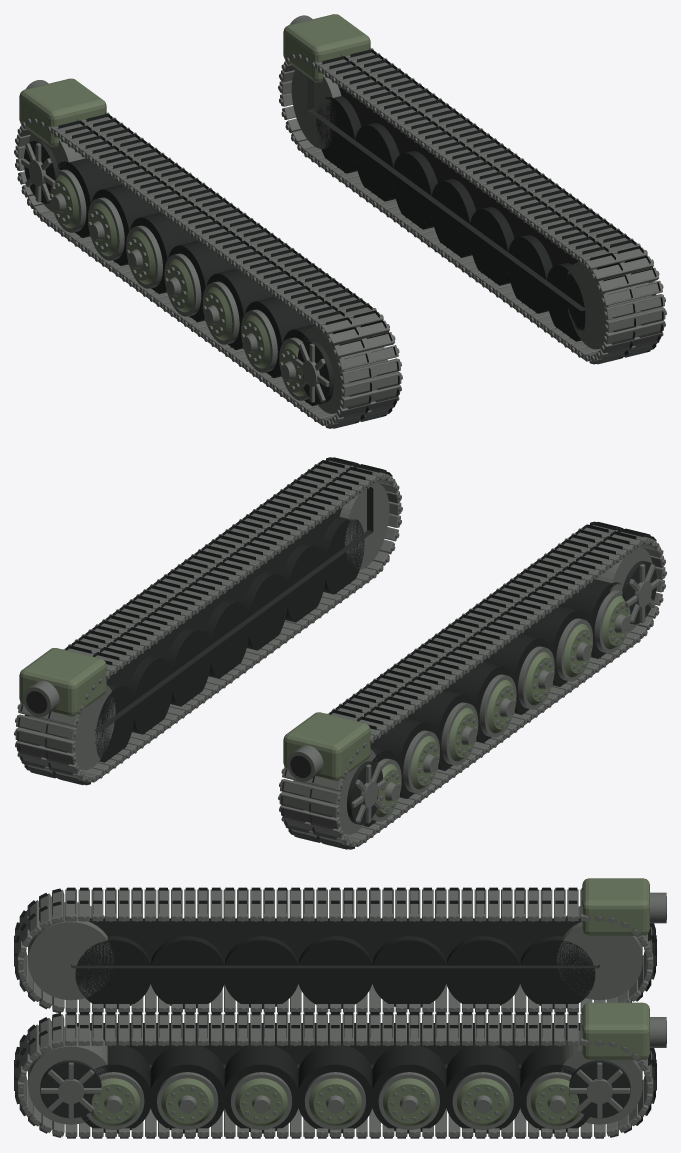
File: tracks_2_7.glb
3 renders of one model, top to bottom at view 1: azimuth 30°, elevation 25°; view 2: azimuth 150°, elevation 25°; view 3: azimuth 270°, elevation 25°, orthographic. The views are drawn at different scales.
Visible parts, largest first — view 1: tracks.012; view 2: tracks.012; view 3: tracks.012.
Part boxes in pixels (x1=…): tracks.012: x1=14, y1=14, x2=666, y2=428; tracks.012: x1=14, y1=457, x2=666, y2=849; tracks.012: x1=14, y1=878, x2=666, y2=1138.
Bounding box in the file's own units: 3.91 × 1.29 × 6.75.
